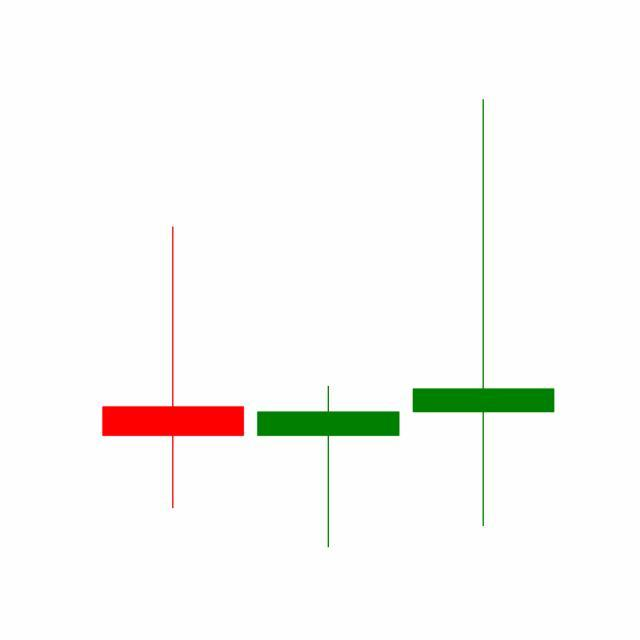Spinning Top: (250, 384, 407, 551)
